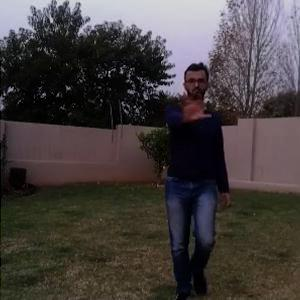follow_hand: (174, 87, 209, 125)
